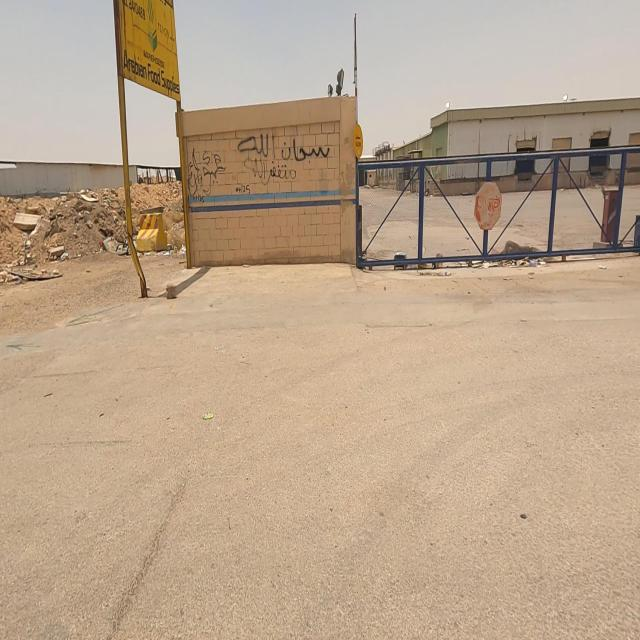Graffiti: (188, 133, 331, 201)
